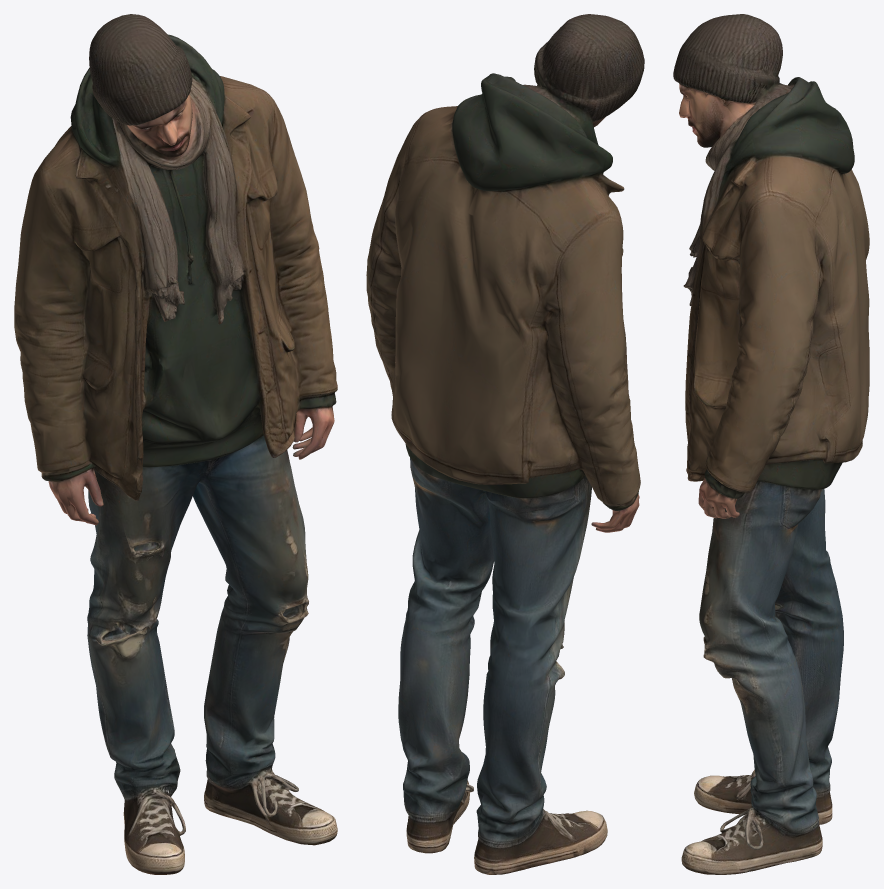
Rendered from attacker.glb.
The picture shows the model from 3 angles, left to right: view 1: azimuth 30°, elevation 25°; view 2: azimuth 150°, elevation 25°; view 3: azimuth 270°, elevation 25°; orthographic projection. The views are drawn at different scales.
Visible parts, largest first — view 1: mesh_0; view 2: mesh_0; view 3: mesh_0.
Boxes of the visible parts, x1,y1,x2,y2 form: mesh_0: [14, 14, 337, 874]; mesh_0: [366, 14, 644, 874]; mesh_0: [673, 14, 869, 874].
Bounding box in the file's own units: 0.649 × 1.9 × 0.4354.
1 material, 1 textured.
